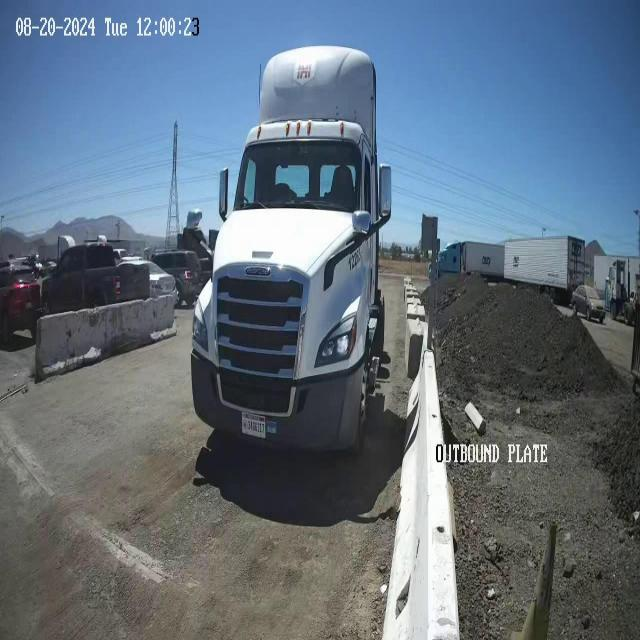TRUCK_OUT: (190, 44, 392, 458)
